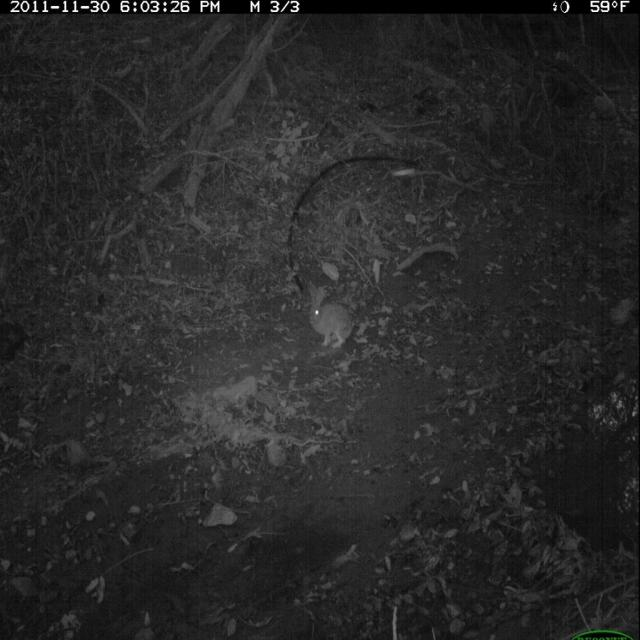rabbit: (302, 272, 365, 357)
